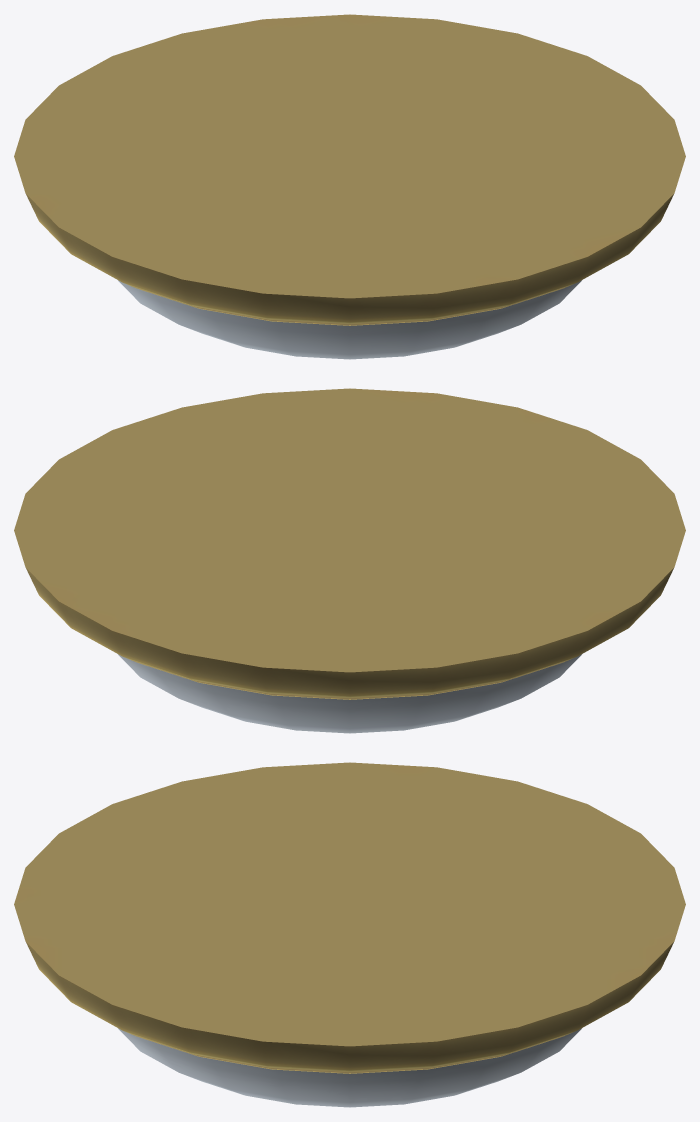
File: OfficeCeilingLight01.FBX
The picture shows the model from 3 angles, top to bottom: view 1: azimuth 30°, elevation 25°; view 2: azimuth 150°, elevation 25°; view 3: azimuth 270°, elevation 25°; orthographic projection.
Visible parts, largest first — view 1: OfficeCeilingLight01; view 2: OfficeCeilingLight01; view 3: OfficeCeilingLight01.
Boxes of the visible parts, x1=… form: OfficeCeilingLight01: x1=14, y1=14, x2=685, y2=359; OfficeCeilingLight01: x1=14, y1=388, x2=685, y2=733; OfficeCeilingLight01: x1=14, y1=762, x2=685, y2=1107.
Size of what is drawn, in the model's own units: 0.463 by 0.1074 by 0.463.
